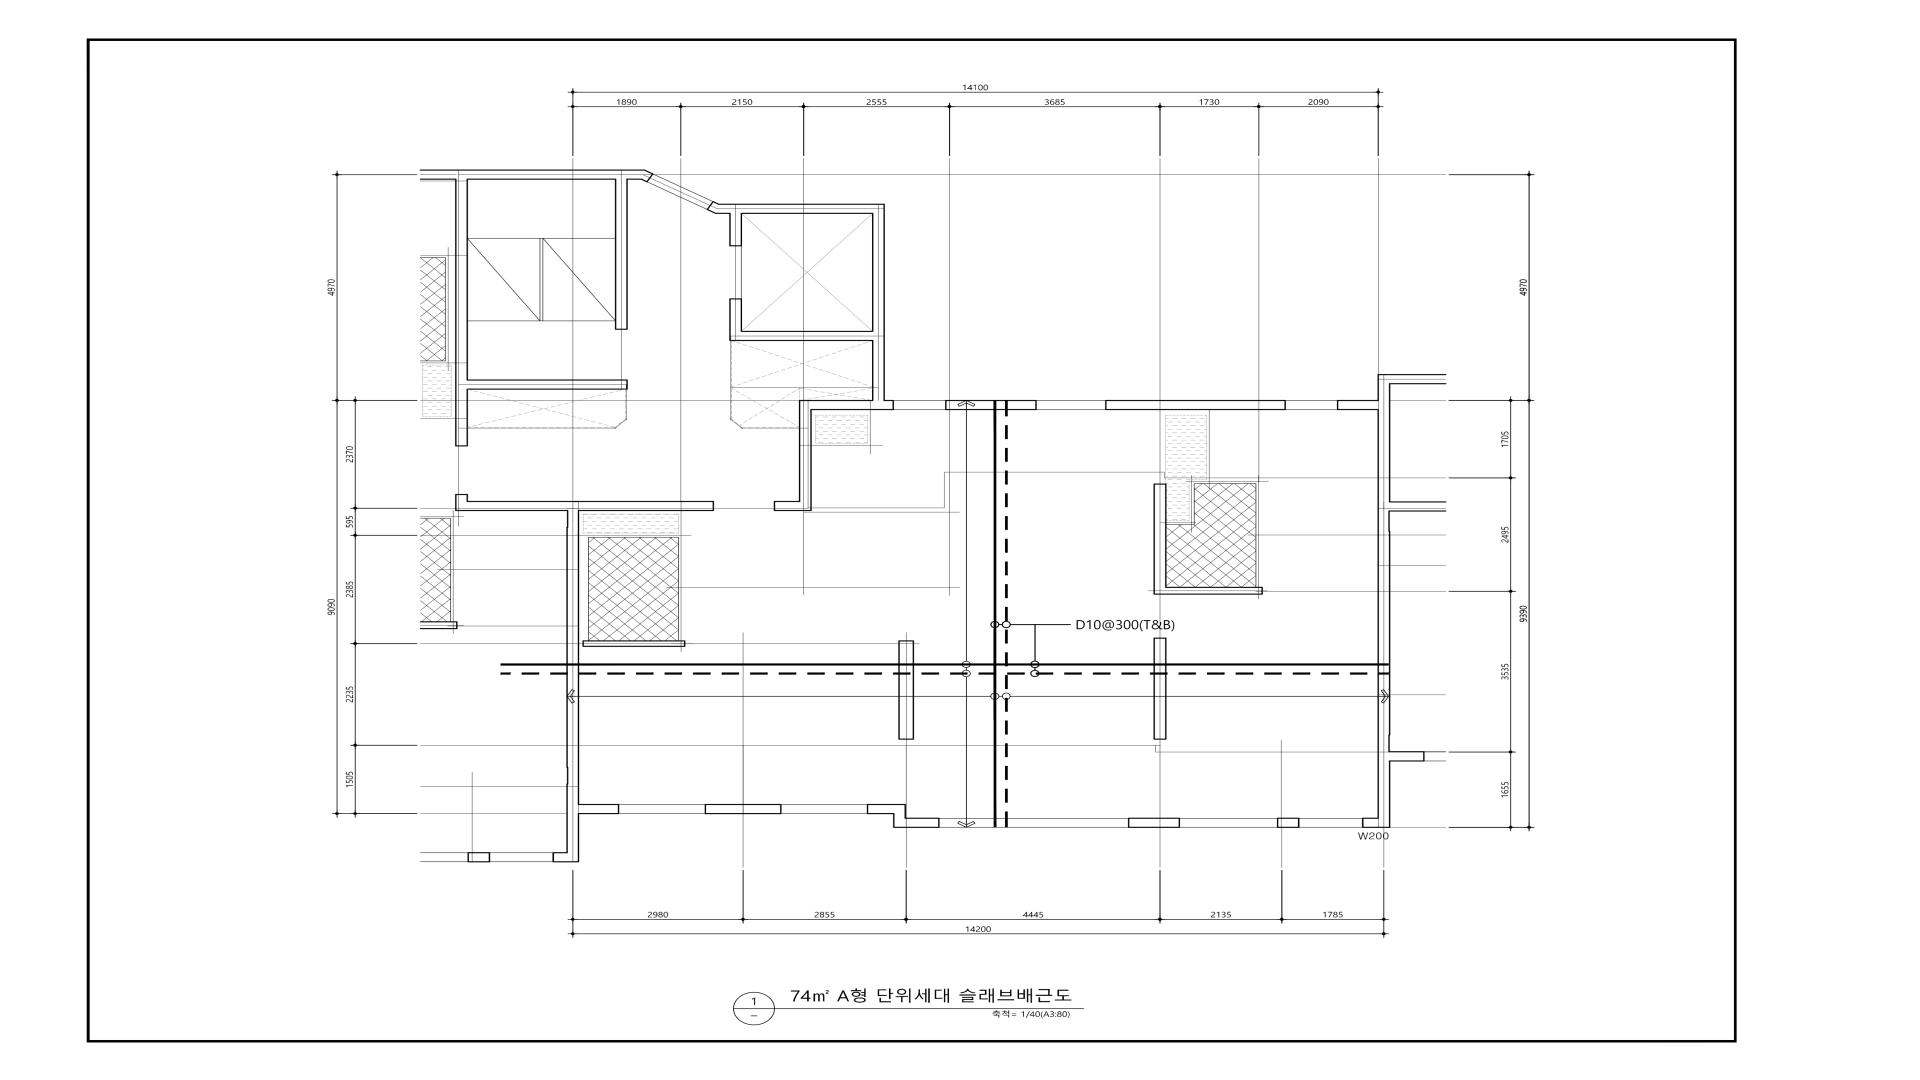wall: (1378, 375, 1390, 818), (566, 510, 579, 814), (455, 170, 468, 447), (872, 203, 885, 400), (468, 501, 713, 512), (615, 179, 628, 330), (1105, 400, 1286, 410), (467, 170, 645, 179), (716, 203, 872, 214), (468, 380, 628, 389), (742, 331, 872, 342), (799, 400, 812, 501), (945, 400, 1036, 410), (812, 400, 894, 410), (704, 804, 781, 814), (729, 298, 742, 342), (1127, 818, 1180, 828), (729, 214, 742, 247), (1337, 400, 1378, 410), (774, 501, 811, 512), (579, 804, 618, 814), (906, 818, 940, 828), (893, 804, 906, 828), (1362, 818, 1390, 828), (866, 804, 893, 814), (1276, 818, 1299, 828), (455, 495, 468, 510), (707, 200, 719, 214), (641, 170, 653, 182)
